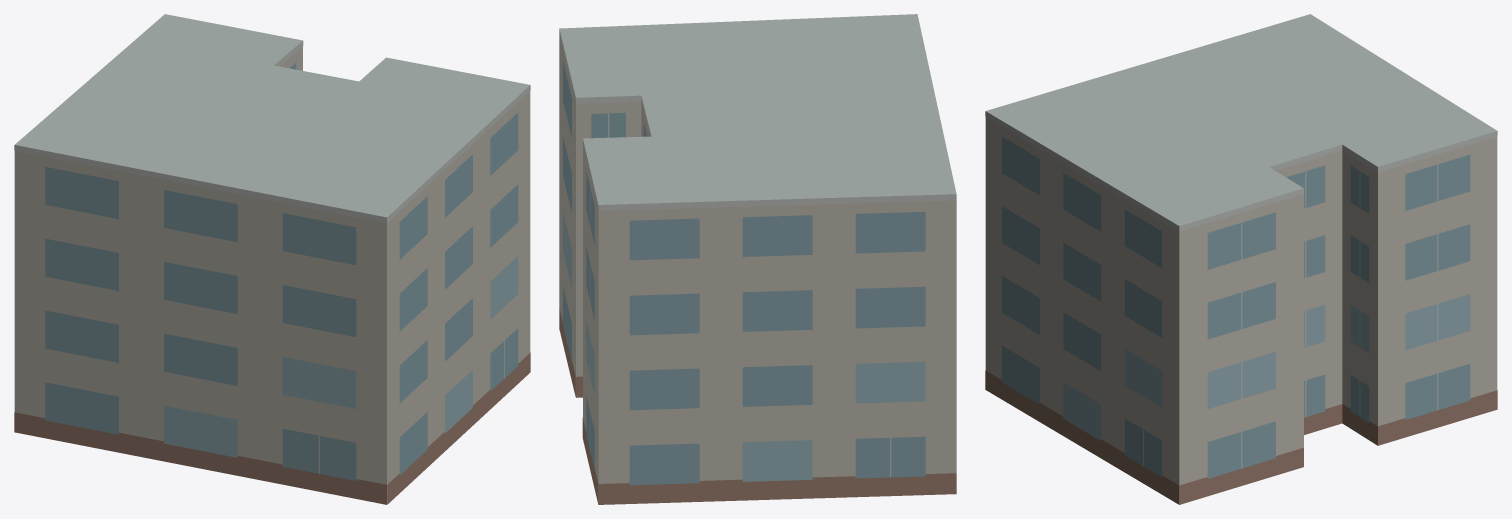
The model's file is survey-upis-32799447.glb.
3 views of the same model, side by side, from view 1: azimuth 30°, elevation 25°; view 2: azimuth 150°, elevation 25°; view 3: azimuth 270°, elevation 25° (orthographic). The views are drawn at different scales.
Parts seen in each view (by area): view 1: survey-upis-32799447.tmp; view 2: survey-upis-32799447.tmp; view 3: survey-upis-32799447.tmp.
Part boxes in pixels (x1=…): survey-upis-32799447.tmp: x1=14, y1=14, x2=530, y2=504; survey-upis-32799447.tmp: x1=559, y1=14, x2=956, y2=504; survey-upis-32799447.tmp: x1=985, y1=14, x2=1497, y2=504.
Size of the model in its own units: 19.76 by 12.1 by 20.15.
